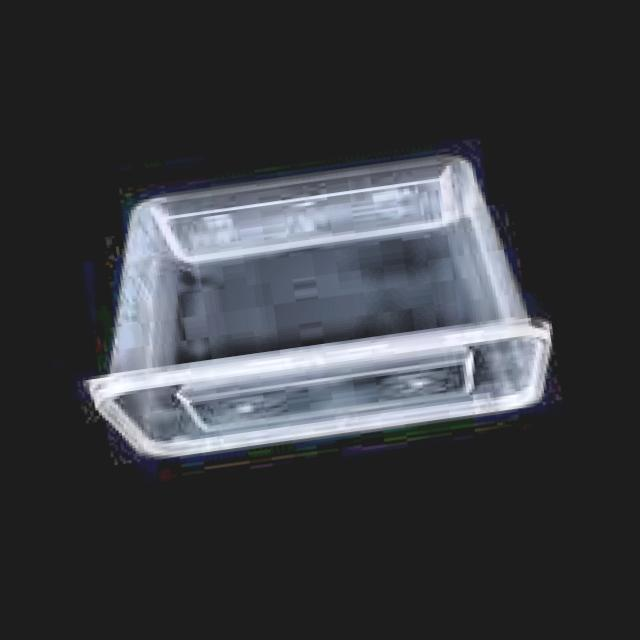plastic container: (89, 155, 551, 457)
